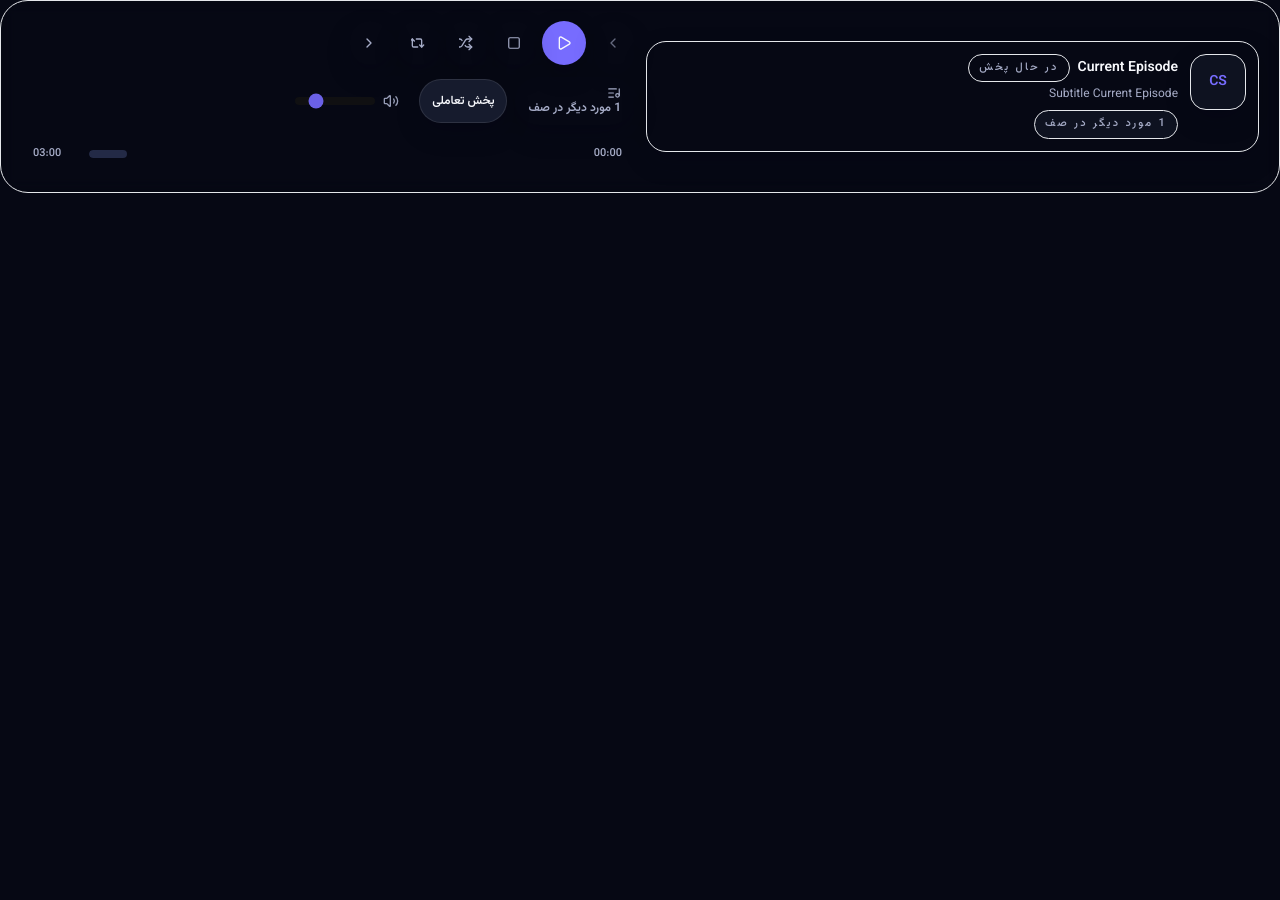
Test: PlayerBar › opens the queue panel and renders current and upcoming items
The width and height of the screenshot is (1280, 900).
Click the button with aria-label "باز کردن صف پخش".
click(575, 101)  # box [516,77,634,125]
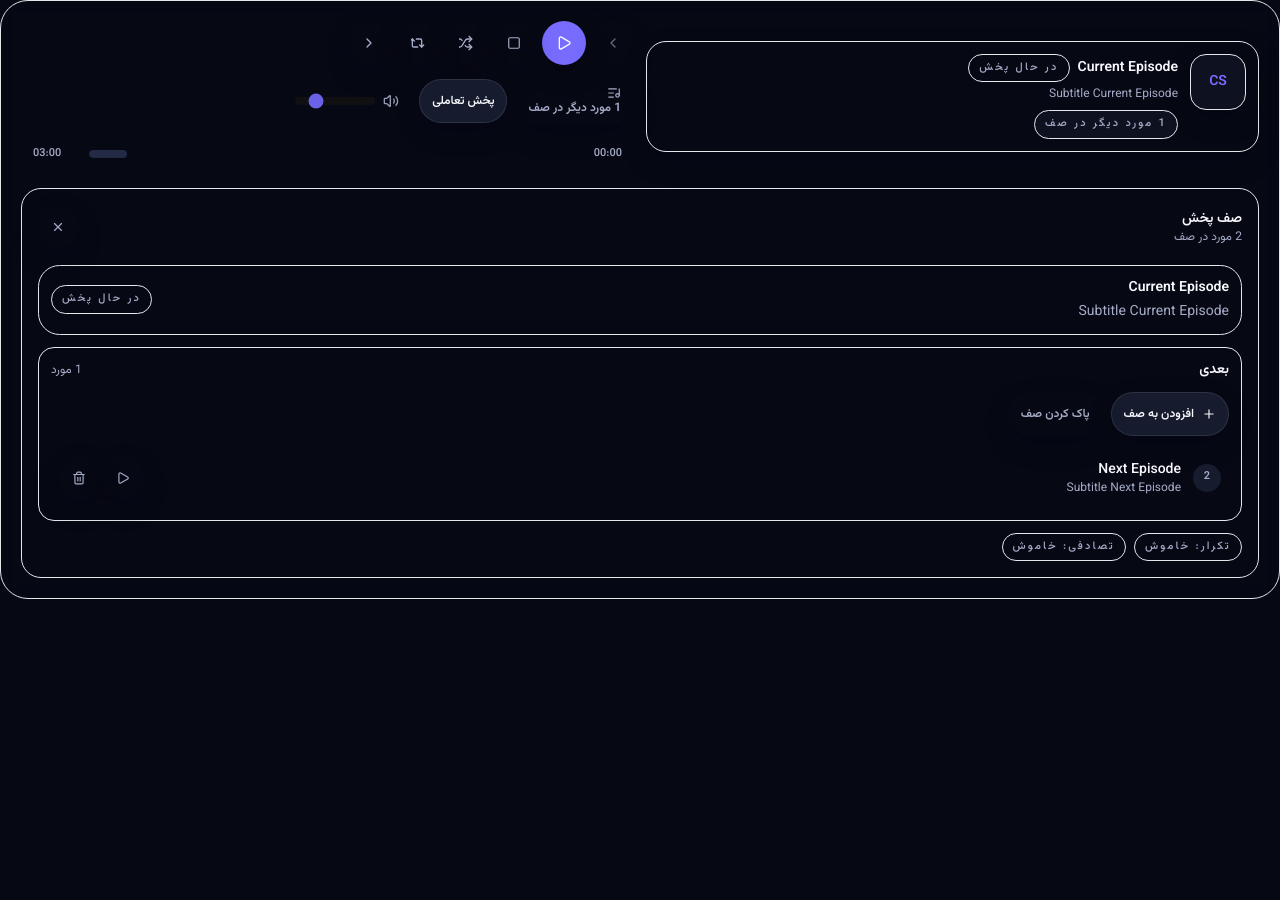
Expected: the text "صف پخش" is shown, [283,77,634,125]
Now the text "Next Episode" is shown, box [1098,459,1181,481]
